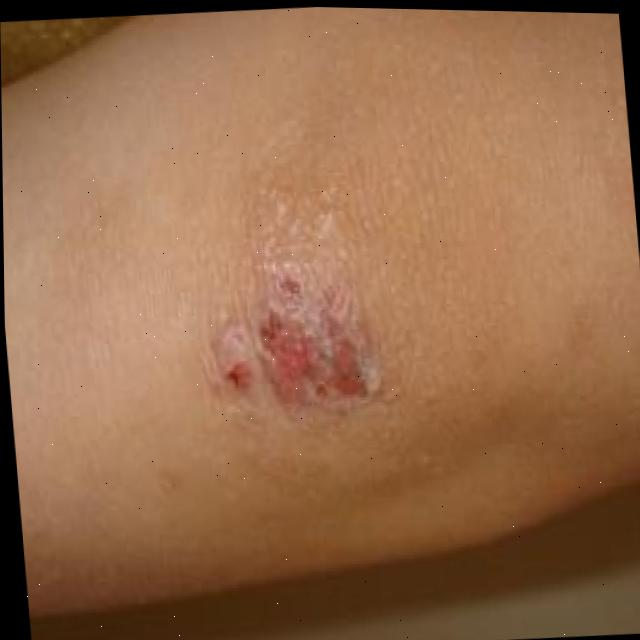Eczema: (183, 180, 406, 435)
